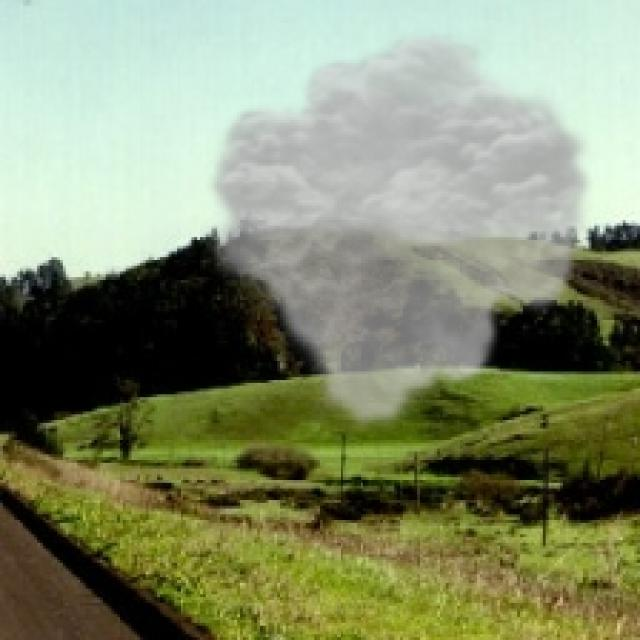smoke: (200, 29, 600, 434)
